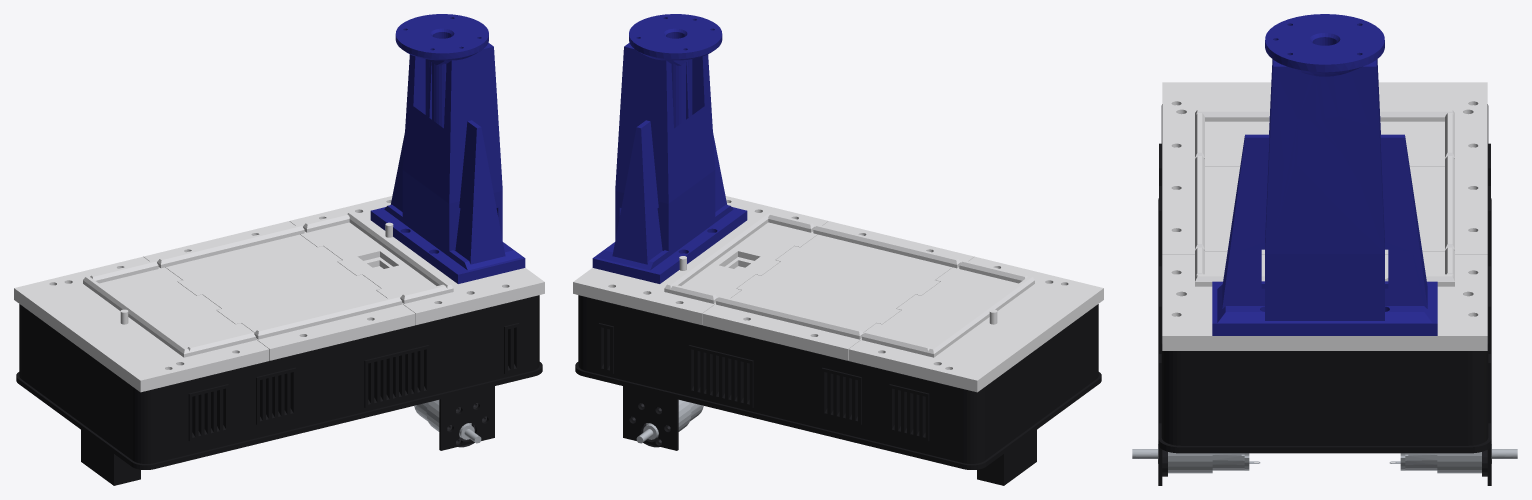
The model's file is mobile_base.dae.
The picture shows the model from 3 angles, left to right: view 1: azimuth 30°, elevation 25°; view 2: azimuth 150°, elevation 25°; view 3: azimuth 270°, elevation 25°; orthographic projection. The views are drawn at different scales.
Parts seen in each view (by area): view 1: tub_rear, lidar_mount, deck_plate_3, deck_plate_2, tub_front, deck_plate_1, motor_1; view 2: tub_rear, lidar_mount, deck_plate_3, deck_plate_2, tub_front, deck_plate_1, motor_2; view 3: lidar_mount, tub_front, deck_plate_3, deck_plate_1, deck_plate_2, motor_1, motor_2, tub_rear.
Boxes of the visible parts, x1,y1,x2,y2 form: tub_rear: (16, 304, 344, 485); lidar_mount: (370, 14, 525, 283); deck_plate_3: (14, 256, 269, 392); deck_plate_2: (143, 221, 415, 360); tub_front: (343, 295, 542, 450); deck_plate_1: (289, 196, 544, 324); motor_1: (414, 400, 481, 443); tub_rear: (773, 304, 1101, 485); lidar_mount: (592, 14, 747, 283); deck_plate_3: (848, 256, 1103, 392); deck_plate_2: (702, 221, 974, 360); tub_front: (575, 295, 774, 450); deck_plate_1: (573, 196, 828, 324); motor_2: (636, 400, 703, 443); lidar_mount: (1212, 14, 1437, 335); tub_front: (1158, 224, 1491, 485); deck_plate_3: (1162, 82, 1487, 166); deck_plate_1: (1162, 247, 1487, 350); deck_plate_2: (1162, 156, 1487, 254); motor_1: (1132, 444, 1260, 473); motor_2: (1389, 444, 1517, 473); tub_rear: (1158, 104, 1491, 318).
Bounding box in the file's own units: 0.364 × 0.2313 × 0.3037.
